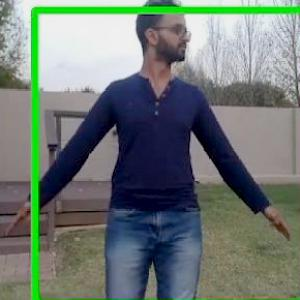land: (11, 1, 286, 299)
